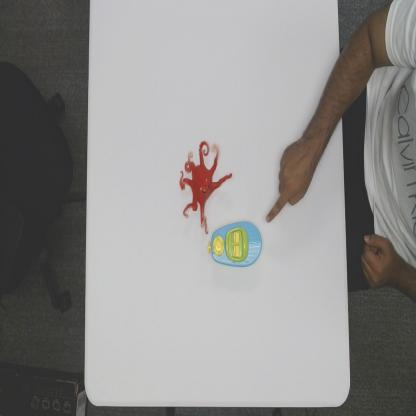Arm: (308, 40, 351, 146)
Boat: (208, 219, 263, 269)
Hand: (266, 134, 321, 224)
Octopus: (179, 139, 233, 235)
